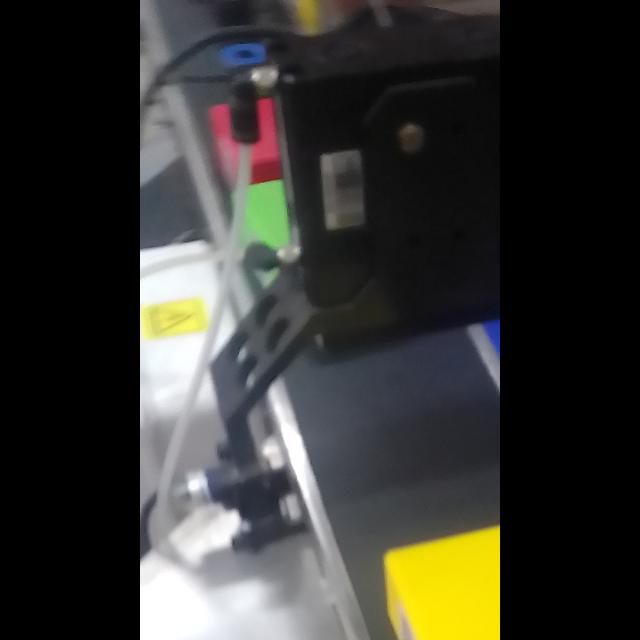yellowBox: (376, 510, 500, 640)
